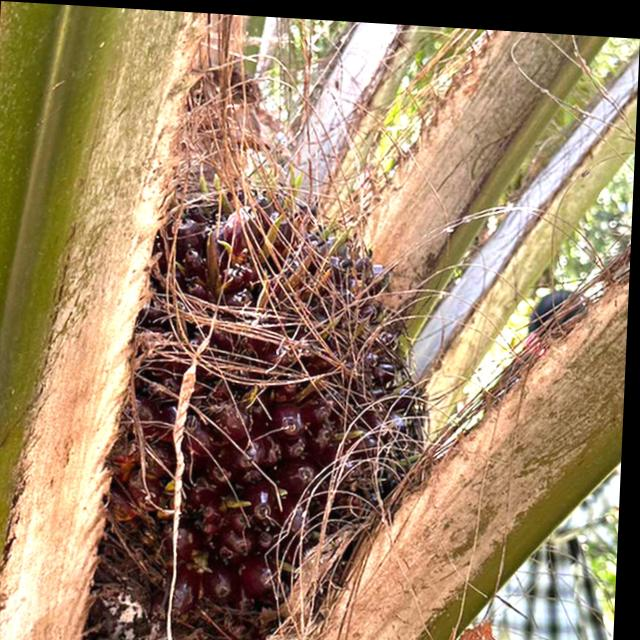almost: (101, 145, 449, 632)
